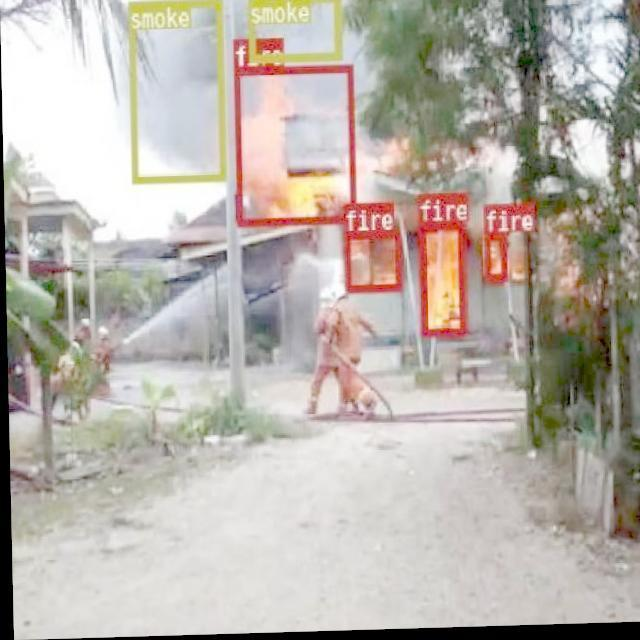Fire: (343, 208, 532, 326), (244, 82, 340, 206)
Smoke: (96, 0, 384, 171)
